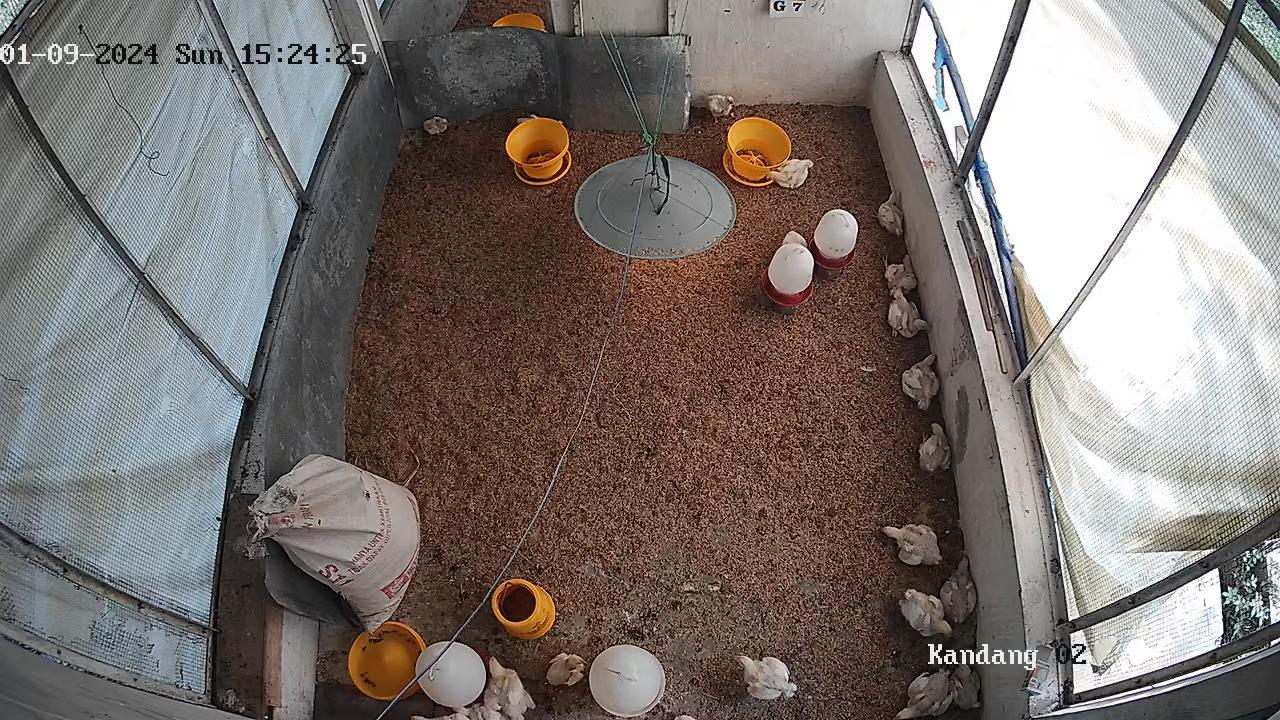chicken: (483, 655, 537, 720), (894, 667, 955, 720), (734, 655, 802, 700), (898, 588, 953, 642), (880, 523, 943, 567), (940, 554, 978, 625), (900, 350, 941, 412), (887, 287, 927, 340), (917, 424, 954, 473), (951, 654, 982, 711), (764, 157, 815, 190), (546, 651, 588, 688), (883, 253, 919, 296), (877, 189, 904, 238), (452, 702, 501, 720), (707, 93, 736, 118), (422, 114, 449, 136), (781, 229, 808, 248)
